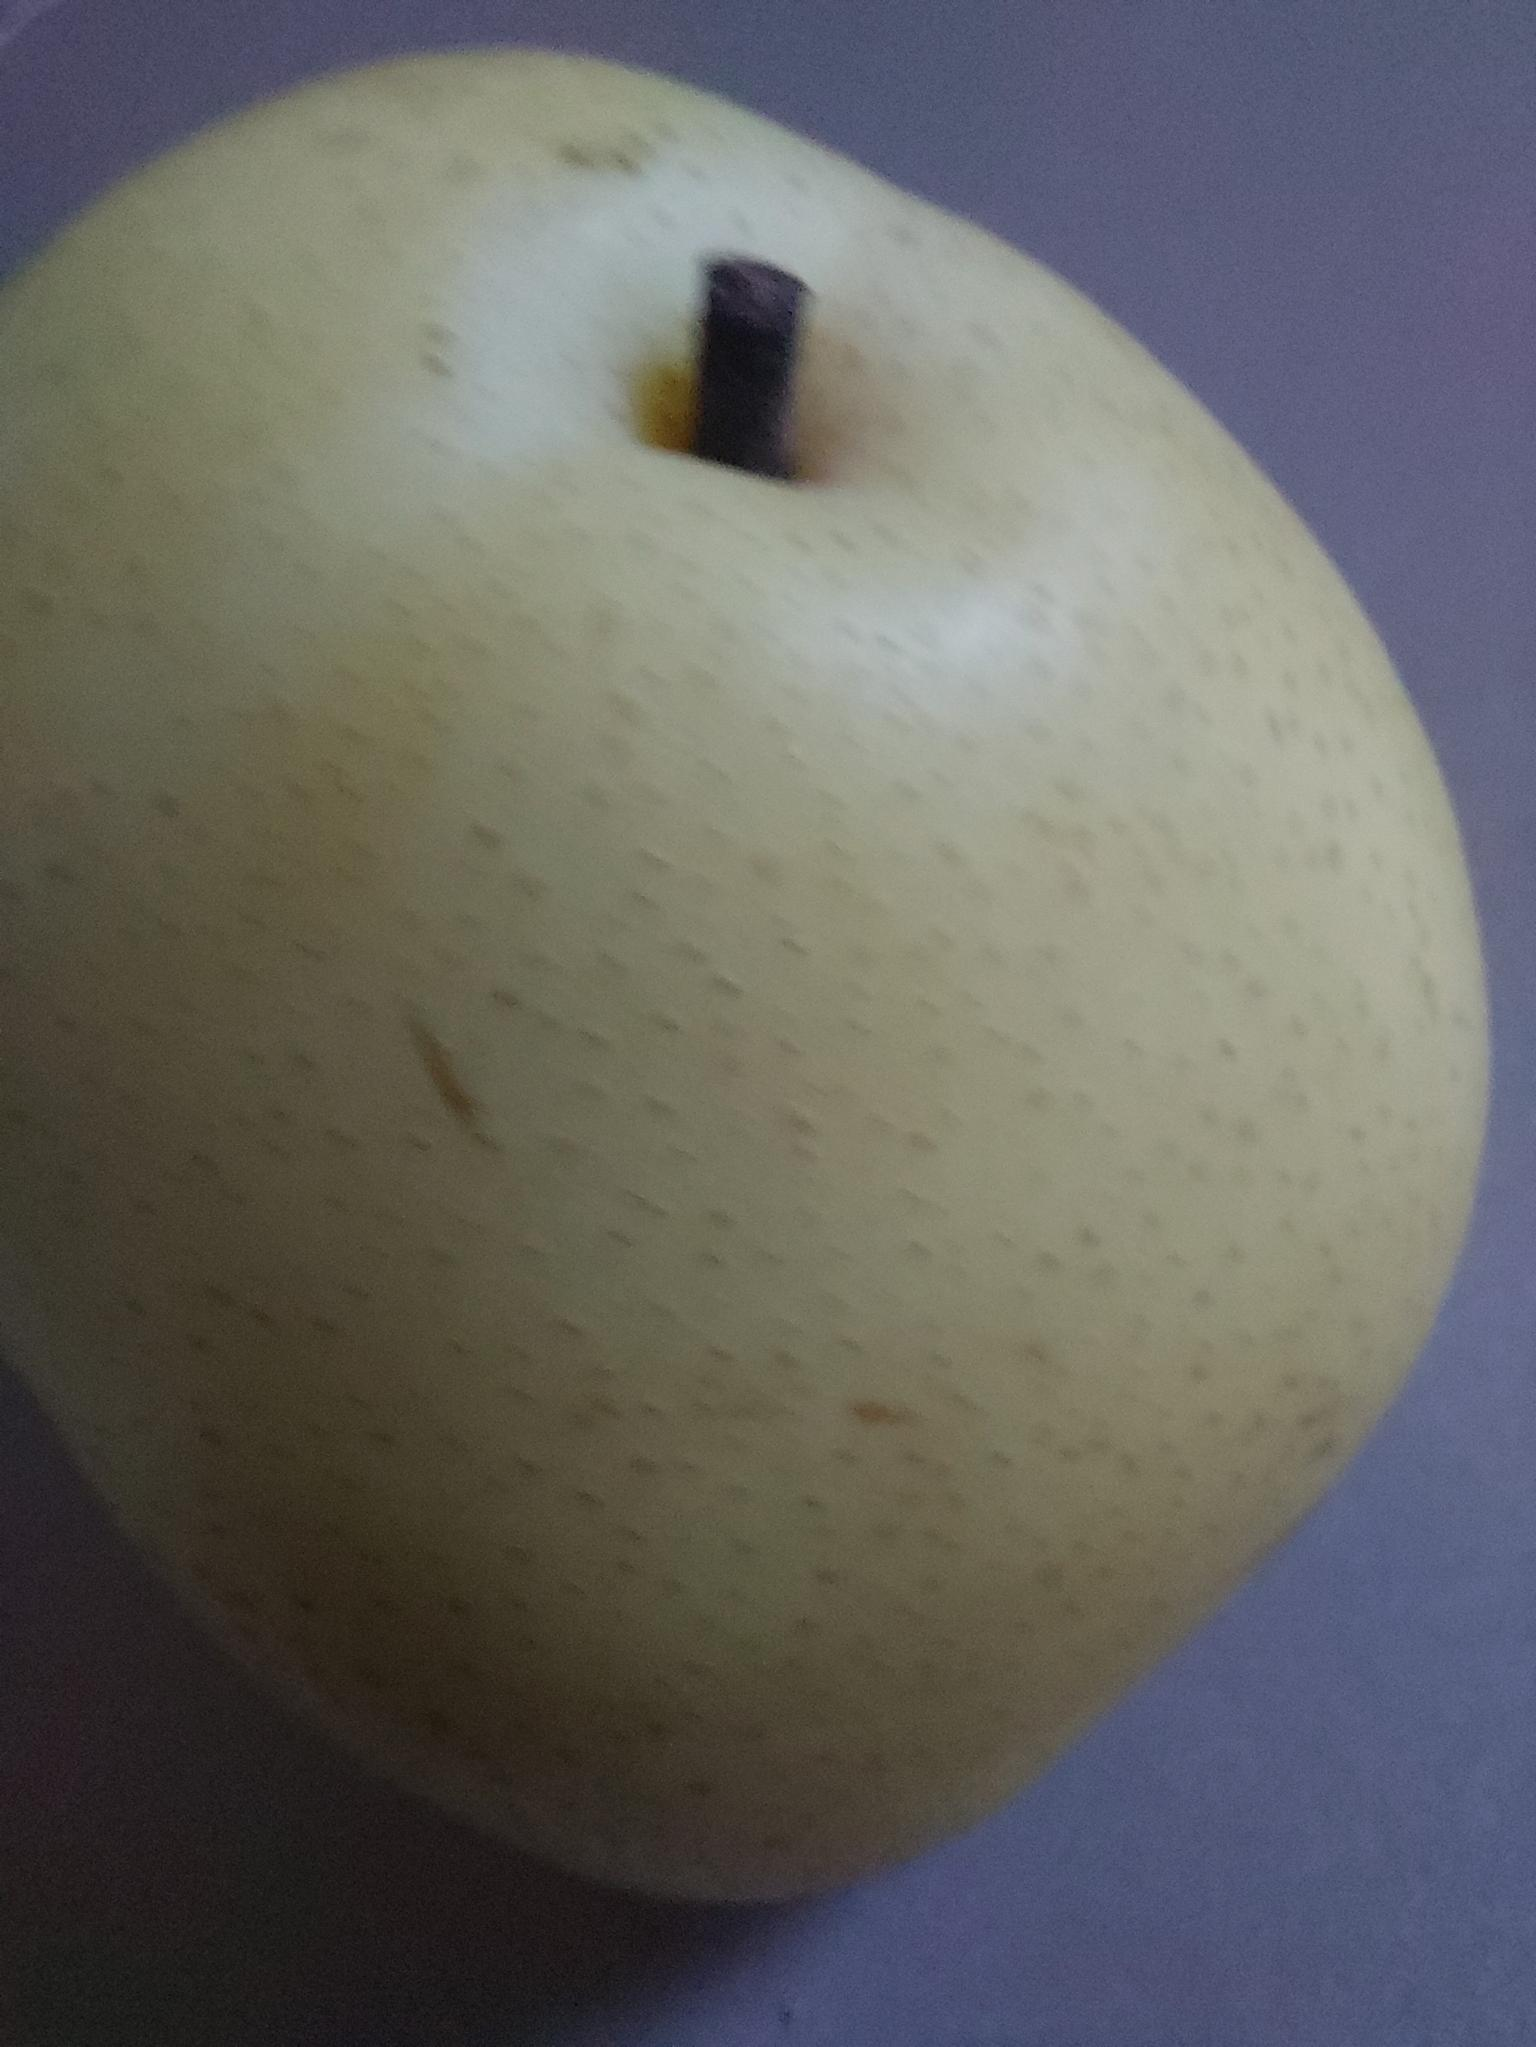Good Pear: (0, 0, 1536, 1958)
